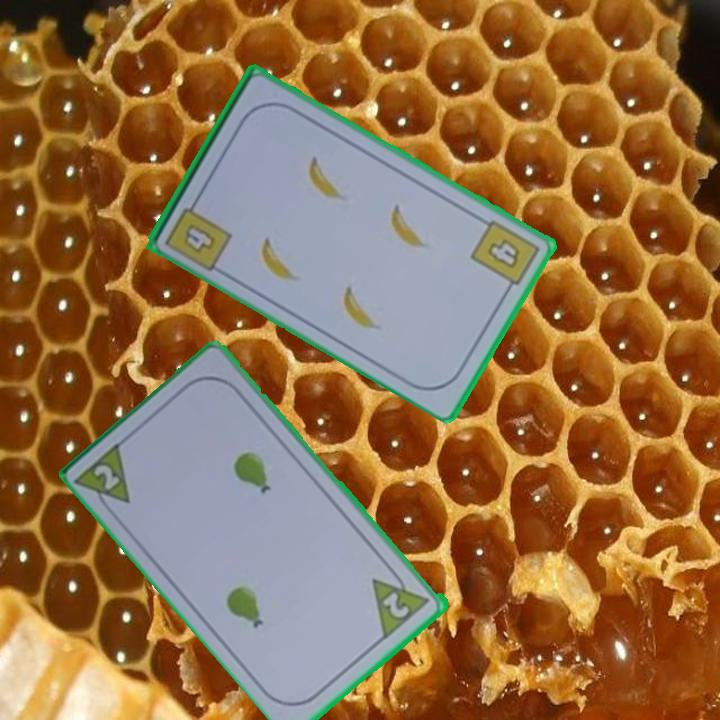2p: (73, 437, 135, 520), (369, 562, 434, 641)
4b: (466, 216, 543, 297), (161, 193, 235, 275)
